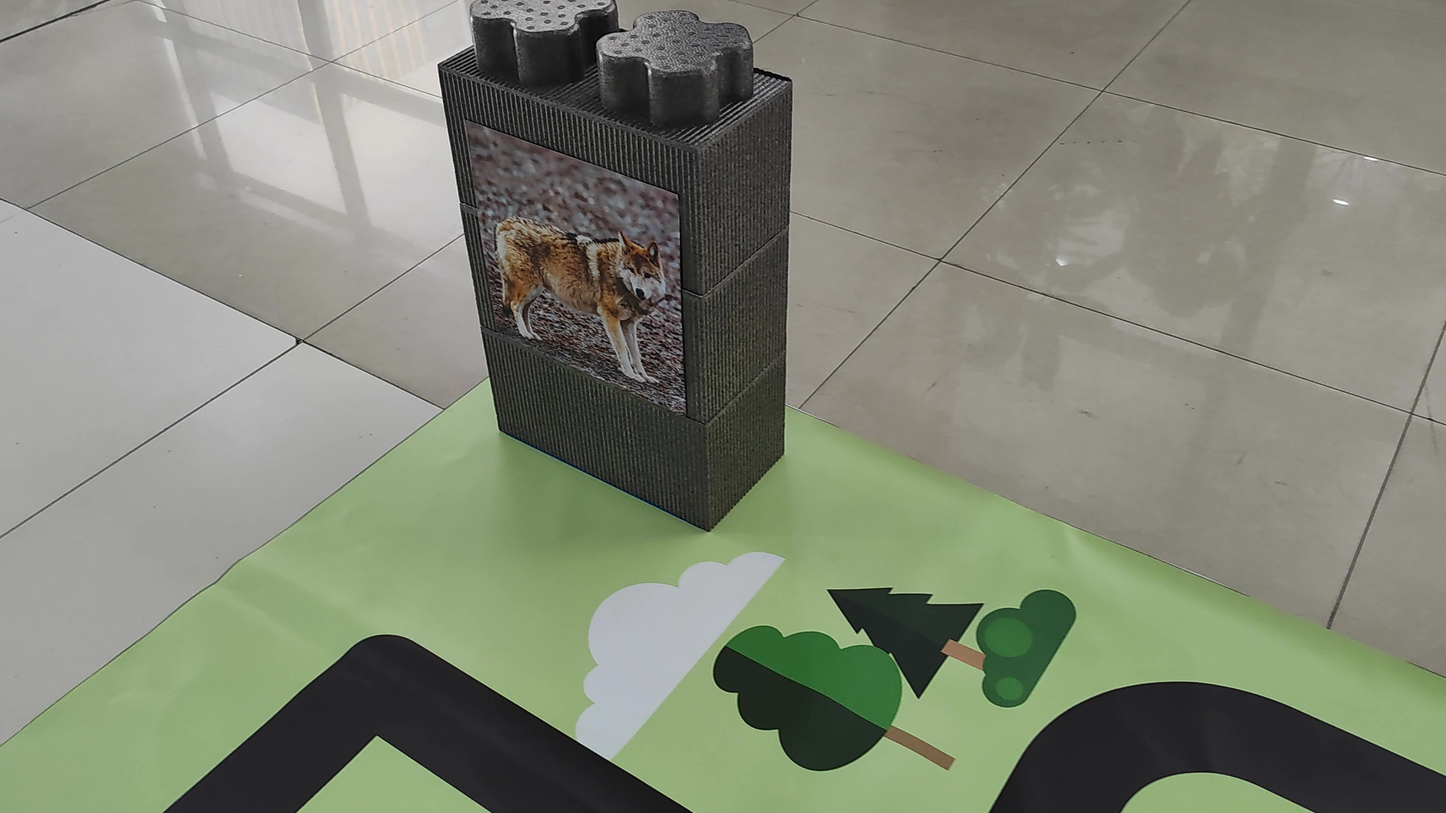wolf: (483, 190, 676, 396)
